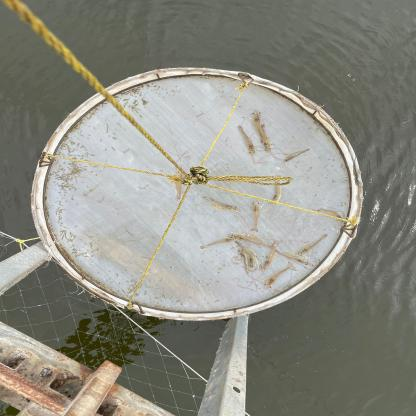shrimp: (262, 263, 295, 288), (296, 234, 327, 257), (234, 241, 257, 268), (202, 195, 240, 211), (275, 250, 313, 266), (260, 240, 278, 270), (238, 125, 255, 155), (199, 237, 235, 249), (227, 234, 265, 245), (252, 109, 264, 142), (282, 149, 310, 162), (317, 209, 345, 222), (270, 176, 282, 206), (250, 201, 260, 232), (239, 249, 249, 275), (262, 124, 271, 152), (175, 172, 183, 201)
